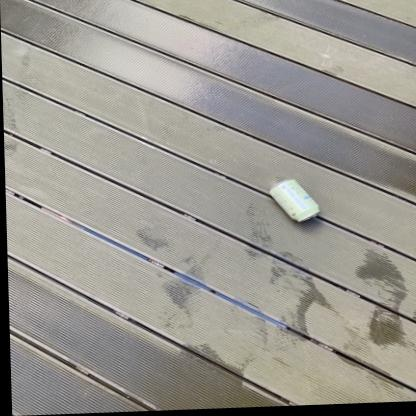trash: (270, 179, 319, 221)
